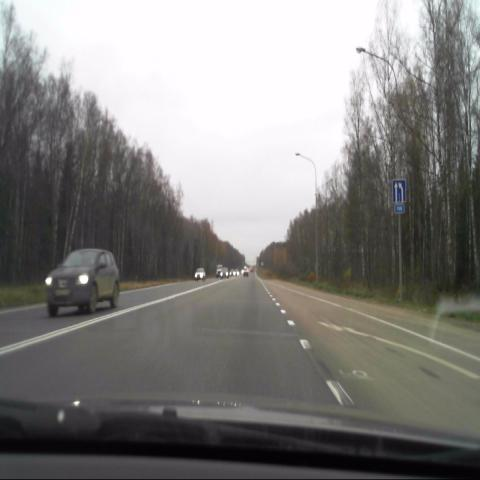5_15_5: (393, 178, 406, 202)
